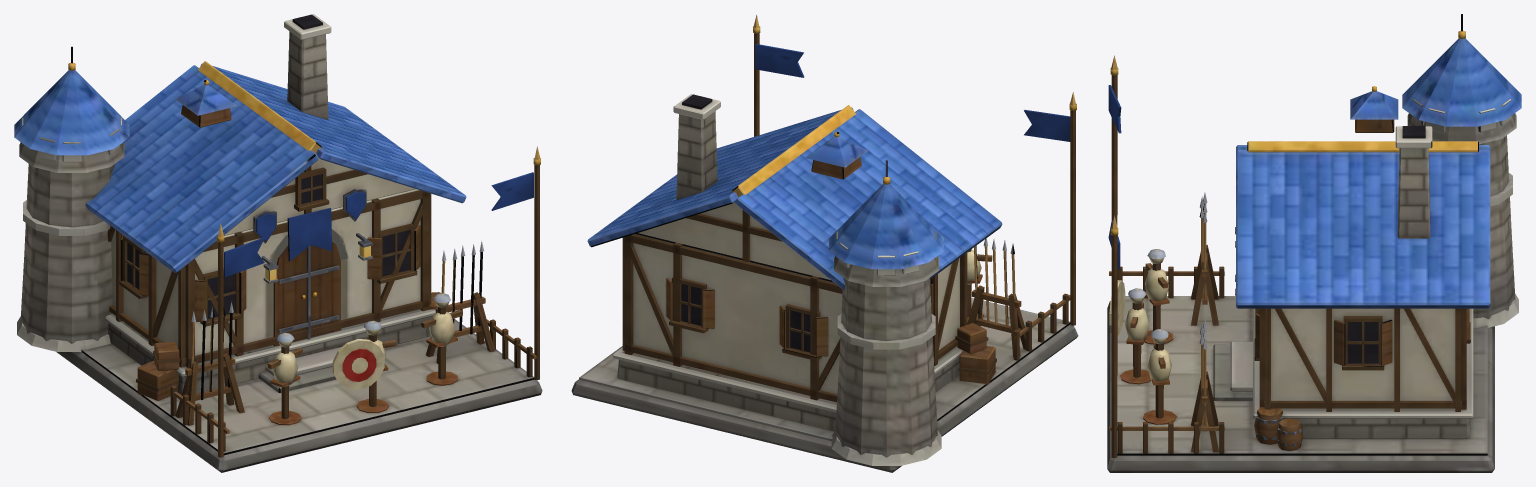
Rendered from barracks.glb.
3 views of the same model, side by side, from view 1: azimuth 30°, elevation 25°; view 2: azimuth 150°, elevation 25°; view 3: azimuth 270°, elevation 25° (orthographic). The views are drawn at different scales.
Parts seen in each view (by area): view 1: Static_Mesh, Anim_Banners; view 2: Static_Mesh, Anim_Banners; view 3: Static_Mesh, Anim_Banners.
Boxes of the visible parts, bbox=[...] form: Static_Mesh: bbox=[14, 14, 542, 472]; Anim_Banners: bbox=[224, 172, 533, 277]; Static_Mesh: bbox=[571, 15, 1078, 472]; Anim_Banners: bbox=[755, 44, 1070, 141]; Static_Mesh: bbox=[1107, 14, 1521, 472]; Anim_Banners: bbox=[1108, 85, 1121, 269].
Bounding box in the file's own units: 7.43 × 6.02 × 7.34.
2 materials, 2 textured.
